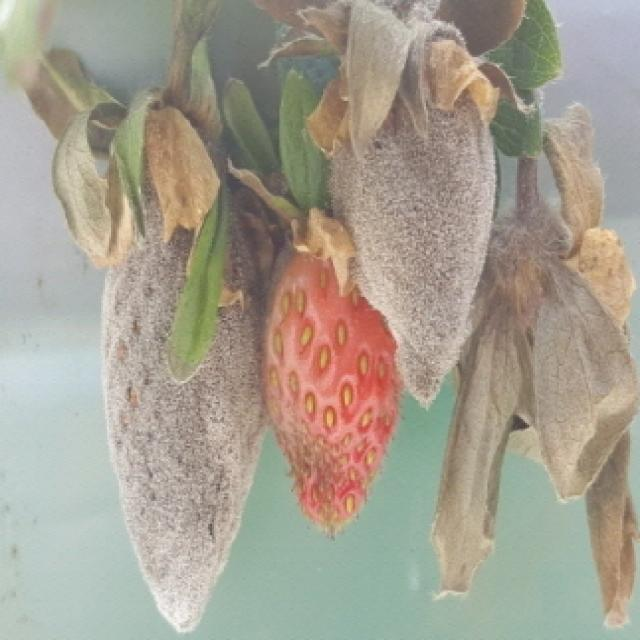Gray Mold: (261, 0, 533, 415), (101, 109, 267, 633)
